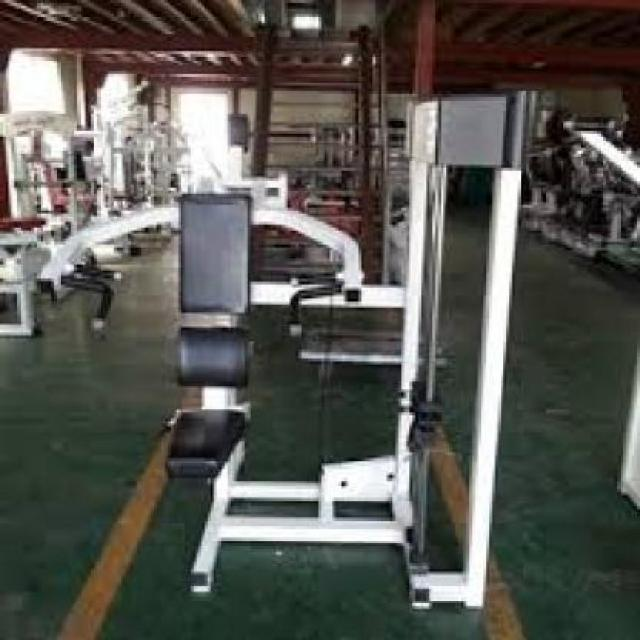shoulder press machine: (20, 85, 538, 628)
